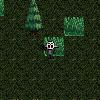Jason: (42, 40, 58, 58)
Obstacle: (23, 17, 44, 37)
Slow: (64, 16, 84, 36), (44, 37, 64, 56)
